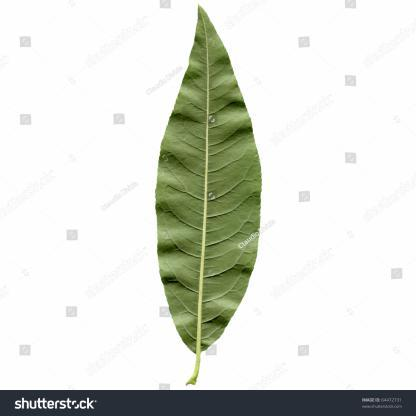Peach leaf: (146, 7, 268, 356)
